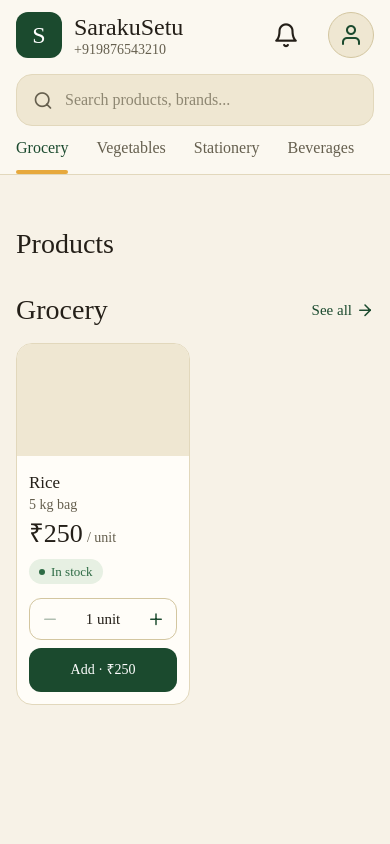
Scenario: HomeScreen server data › filters the loaded products when a category is selected
Expected: the text "Rice" is shown, [29,473,60,492]
Click the tab "Vegetables" at (131, 148), box [96,139,166,156]
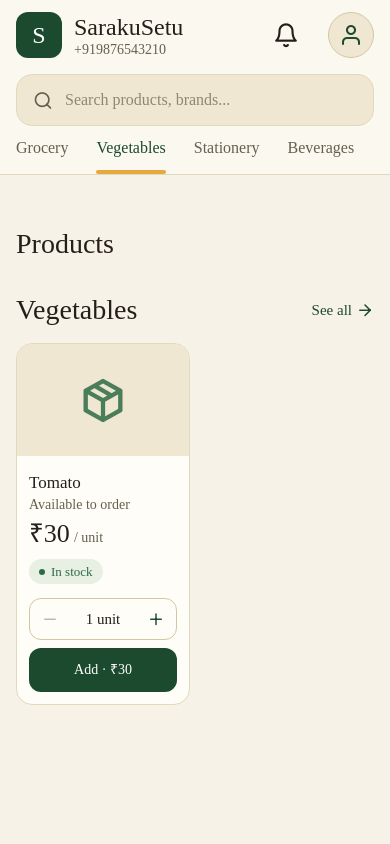
Now the text "Tomato" is shown, box [29,473,81,492]
Now the text "Rice" is gone
